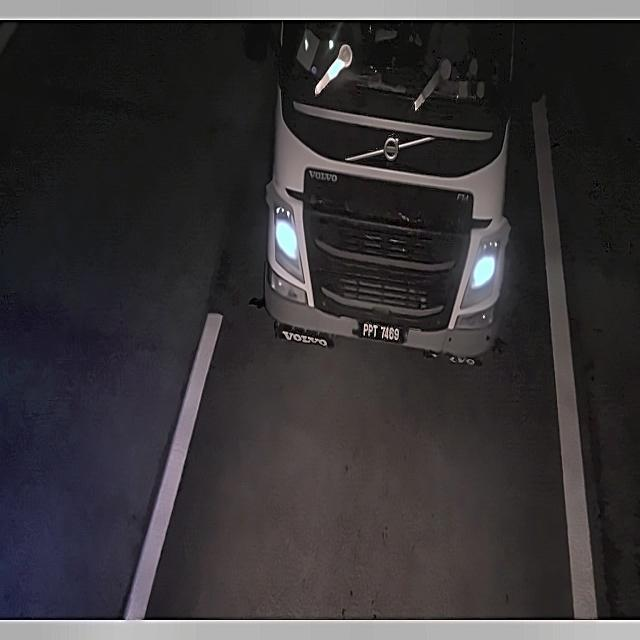car: (352, 317, 410, 346)
